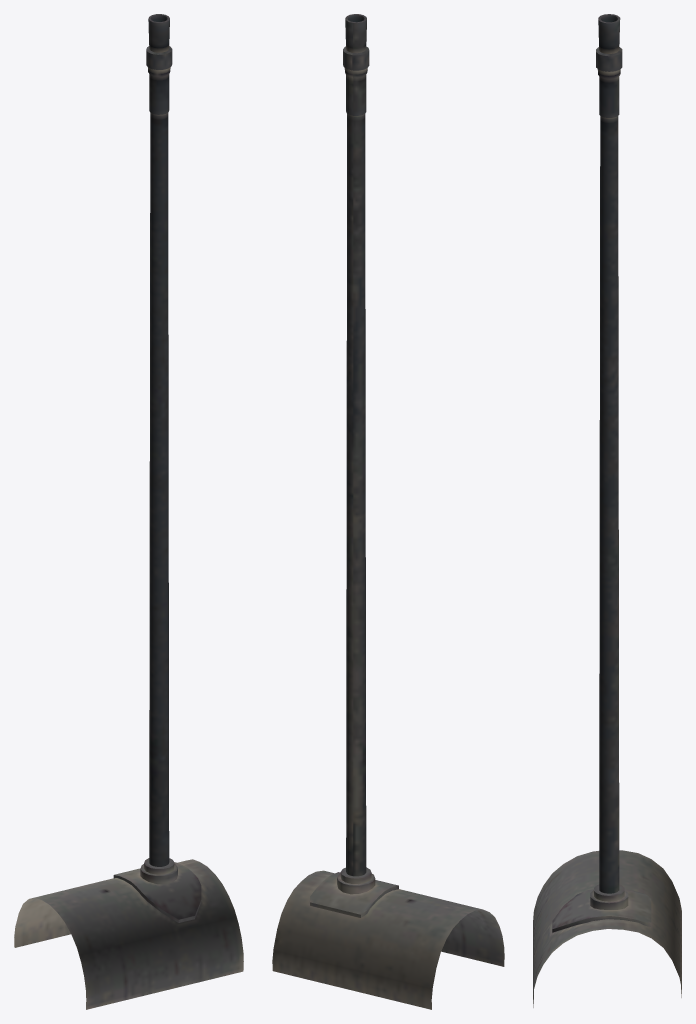
Rendered from Gun_03.glb.
3 renders of one model, left to right at view 1: azimuth 30°, elevation 25°; view 2: azimuth 150°, elevation 25°; view 3: azimuth 270°, elevation 25°, orthographic. The views are drawn at different scales.
Parts seen in each view (by area): view 1: set_0_group_0; view 2: set_0_group_0; view 3: set_0_group_0.
Boxes of the visible parts, bbox=[...] form: set_0_group_0: bbox=[14, 14, 243, 1009]; set_0_group_0: bbox=[272, 14, 504, 1009]; set_0_group_0: bbox=[533, 14, 681, 1007].
Size of the model in its own units: 0.3988 by 2.27 by 0.3159.
Materials: 1 (1 with a texture image).
